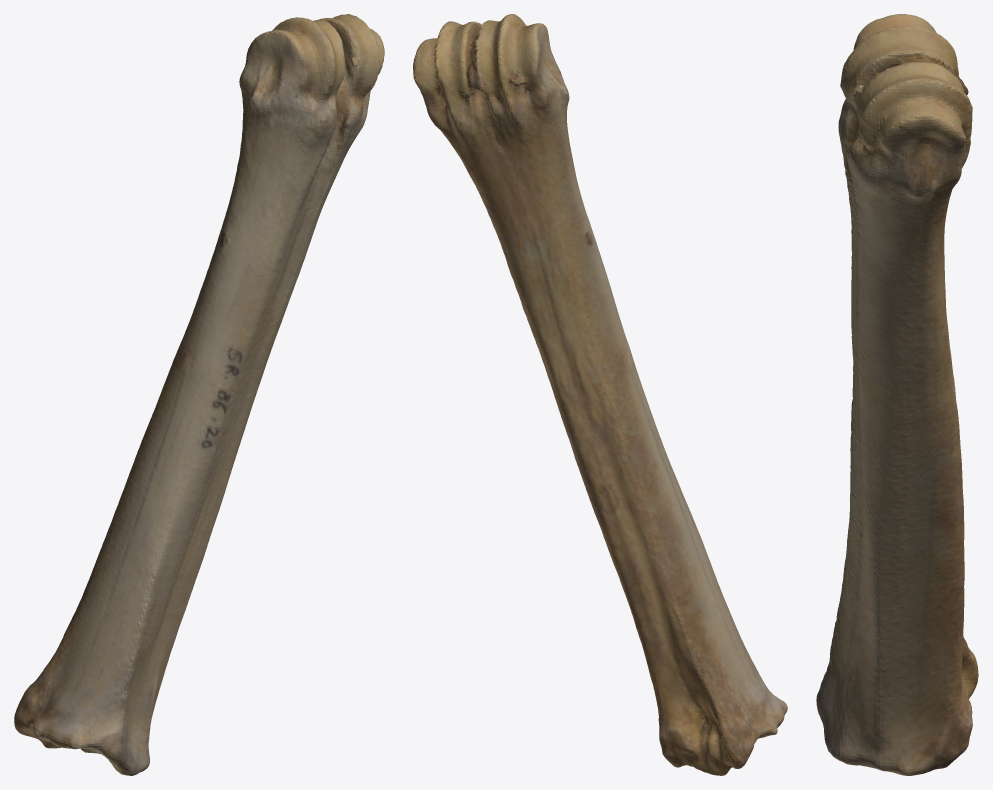
The picture shows the model from 3 angles, left to right: view 1: azimuth 30°, elevation 25°; view 2: azimuth 150°, elevation 25°; view 3: azimuth 270°, elevation 25°; orthographic projection. The views are drawn at different scales.
Visible parts, largest first — view 1: Node; view 2: Node; view 3: Node.
Boxes of the visible parts, bbox=[...] form: Node: bbox=[14, 14, 384, 775]; Node: bbox=[413, 14, 787, 775]; Node: bbox=[816, 14, 978, 775].
Bounding box in the file's own units: 133 × 253 × 43.5.
1 material, 1 textured.
